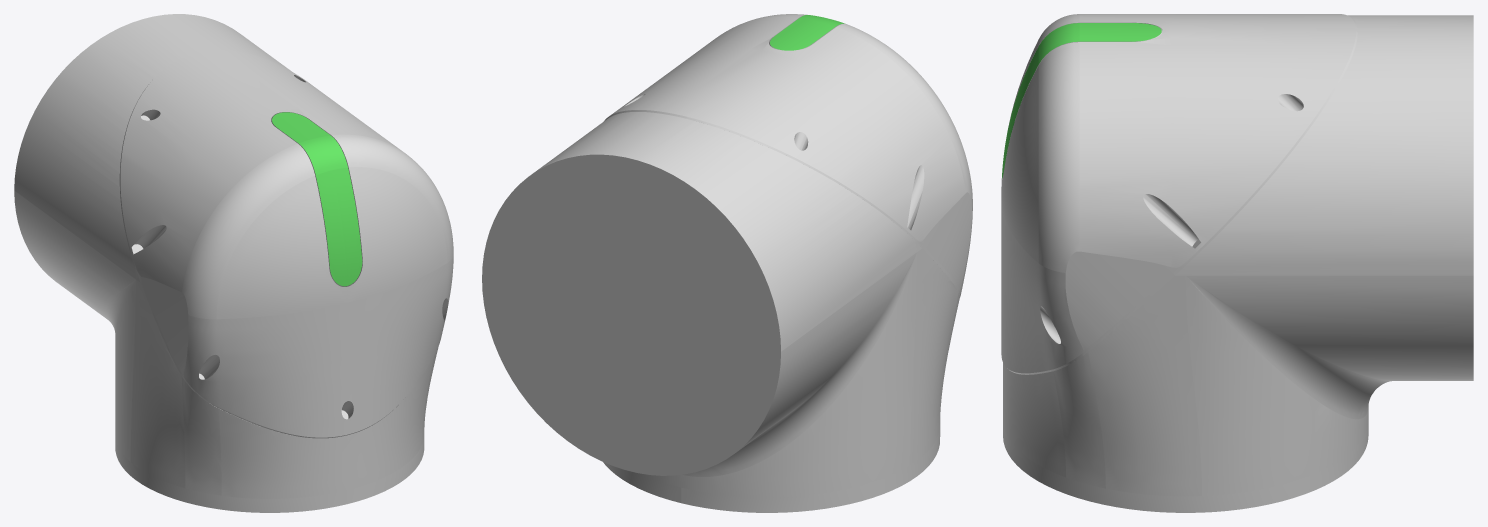
3 renders of one model, left to right at view 1: azimuth 30°, elevation 25°; view 2: azimuth 150°, elevation 25°; view 3: azimuth 270°, elevation 25°, orthographic. The views are drawn at different scales.
Parts seen in each view (by area): view 1: Mesh_0.018; view 2: Mesh_0.018; view 3: Mesh_0.018.
Part boxes in pixels (left/top/right/bottom): Mesh_0.018: left=14, top=14, right=453, bottom=512; Mesh_0.018: left=482, top=14, right=972, bottom=512; Mesh_0.018: left=1001, top=14, right=1473, bottom=512.
Bounding box in the file's own units: 0.24 × 0.2931 × 0.3101.
